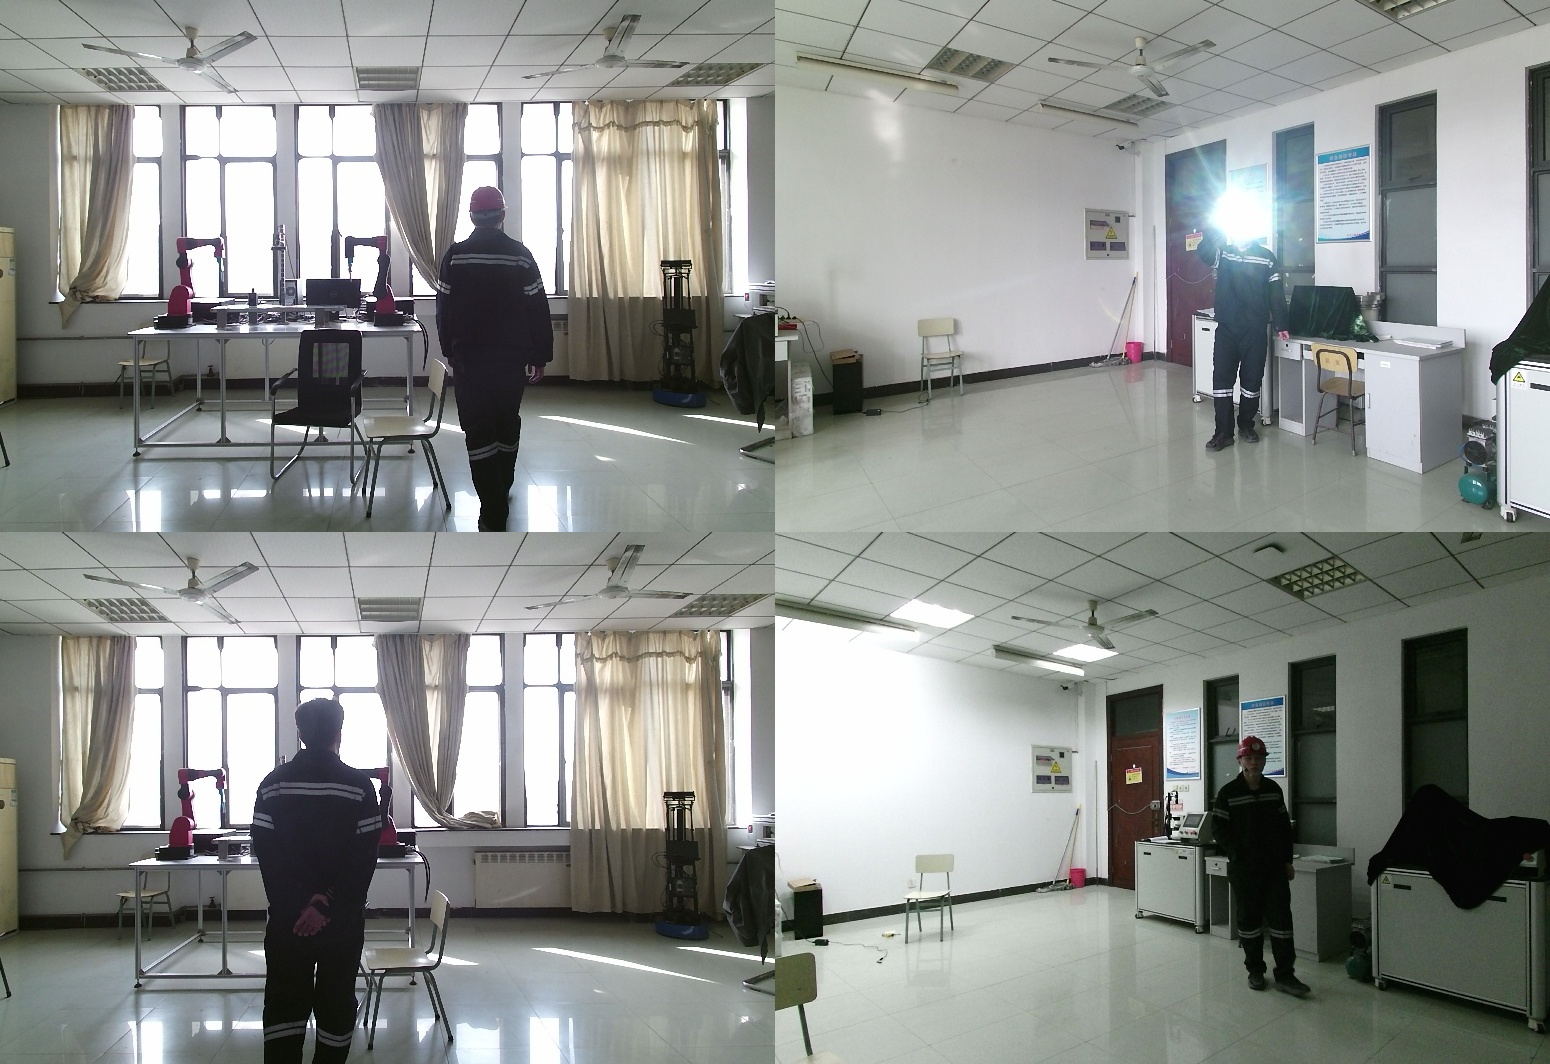person: (249, 699, 398, 1064), (438, 185, 559, 532), (1211, 738, 1309, 998), (1199, 209, 1291, 447)
